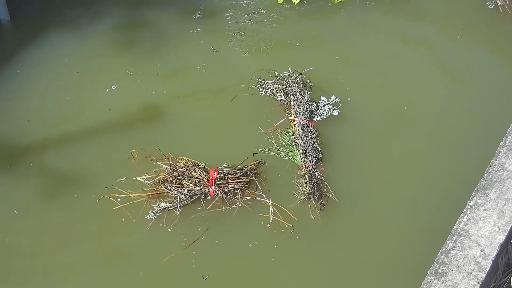twig: (108, 134, 268, 224), (256, 68, 346, 218), (269, 0, 404, 7), (471, 2, 512, 5)
